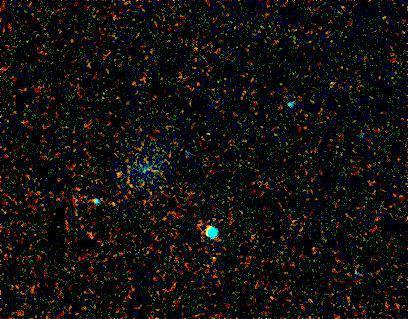star: (199, 240, 229, 270)
